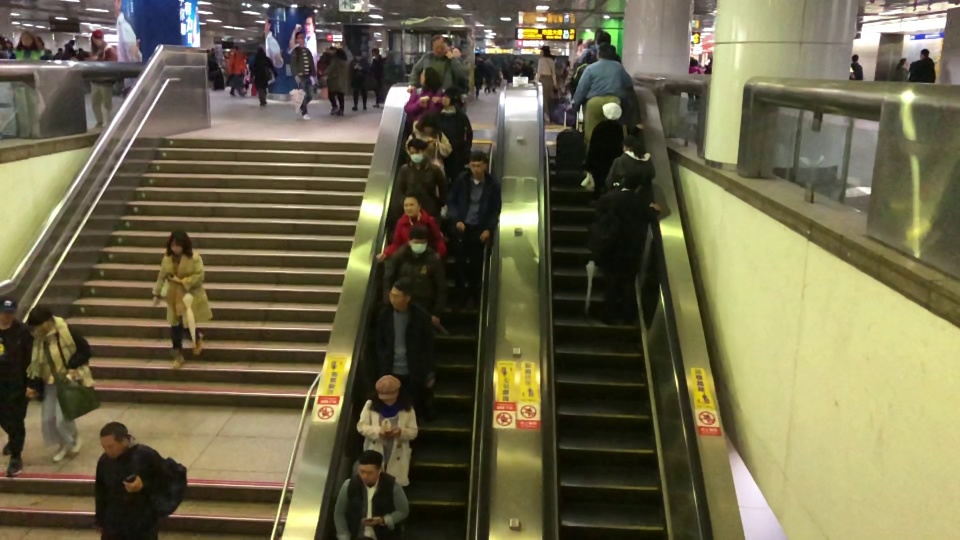person_head: (99, 421, 134, 459), (375, 373, 402, 405), (358, 450, 383, 483), (388, 278, 411, 311), (415, 109, 441, 136), (438, 85, 465, 111), (166, 229, 191, 257), (28, 310, 55, 335), (620, 164, 644, 191), (408, 224, 429, 254), (621, 132, 646, 157), (469, 149, 488, 181), (417, 65, 440, 89), (402, 191, 422, 218), (0, 298, 18, 325), (602, 100, 623, 122), (430, 32, 448, 57), (596, 43, 617, 64), (408, 139, 426, 163), (89, 27, 106, 48), (20, 29, 37, 48), (917, 46, 929, 61), (294, 32, 306, 46), (538, 44, 549, 58), (334, 47, 345, 59), (353, 47, 363, 58), (897, 55, 906, 67), (372, 47, 381, 58), (851, 52, 859, 64)
person_vbox: (599, 161, 661, 326), (449, 146, 502, 325), (25, 302, 84, 462), (150, 229, 214, 370), (386, 224, 437, 390), (93, 420, 162, 540), (355, 374, 417, 490), (334, 452, 410, 540), (375, 277, 426, 402), (375, 188, 447, 270), (575, 44, 634, 138), (394, 135, 449, 234), (0, 291, 26, 480), (408, 30, 469, 97), (604, 130, 664, 197), (588, 99, 626, 204), (403, 107, 452, 182), (432, 84, 476, 161), (84, 26, 117, 126), (288, 32, 316, 120), (533, 44, 558, 126), (407, 65, 444, 112), (347, 43, 371, 112), (251, 46, 278, 106), (325, 45, 347, 116), (11, 27, 49, 61), (226, 44, 247, 98), (909, 45, 938, 83), (371, 44, 387, 109), (689, 57, 701, 112), (848, 48, 868, 80), (890, 55, 909, 85), (484, 54, 494, 96), (475, 54, 484, 98), (703, 51, 712, 78), (65, 44, 75, 61), (56, 47, 64, 59)
